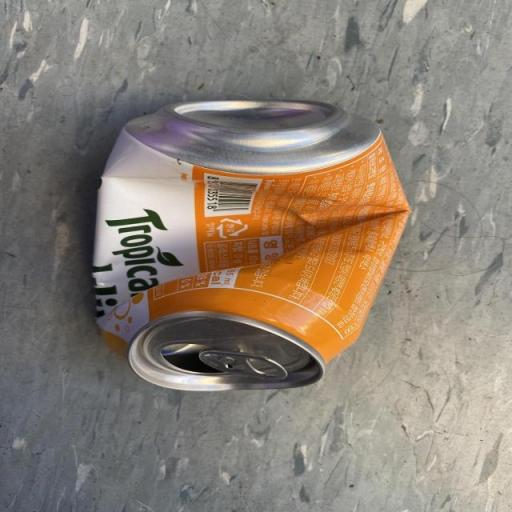metal: (73, 40, 424, 422)
